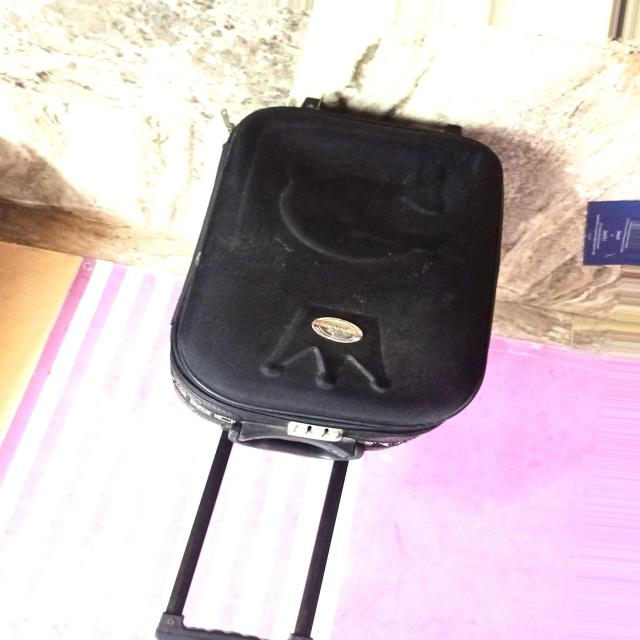Bag: (122, 40, 534, 640)
Handle: (157, 418, 368, 640)
